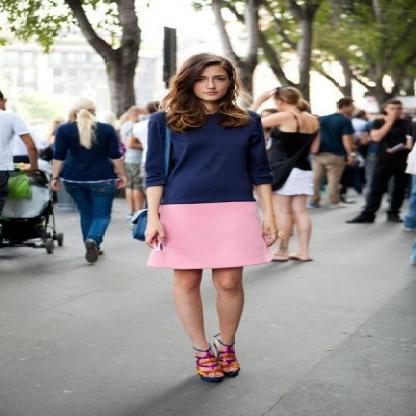shirt: (146, 108, 268, 205)
shoe: (196, 341, 238, 377)
skirt: (147, 202, 287, 274)
